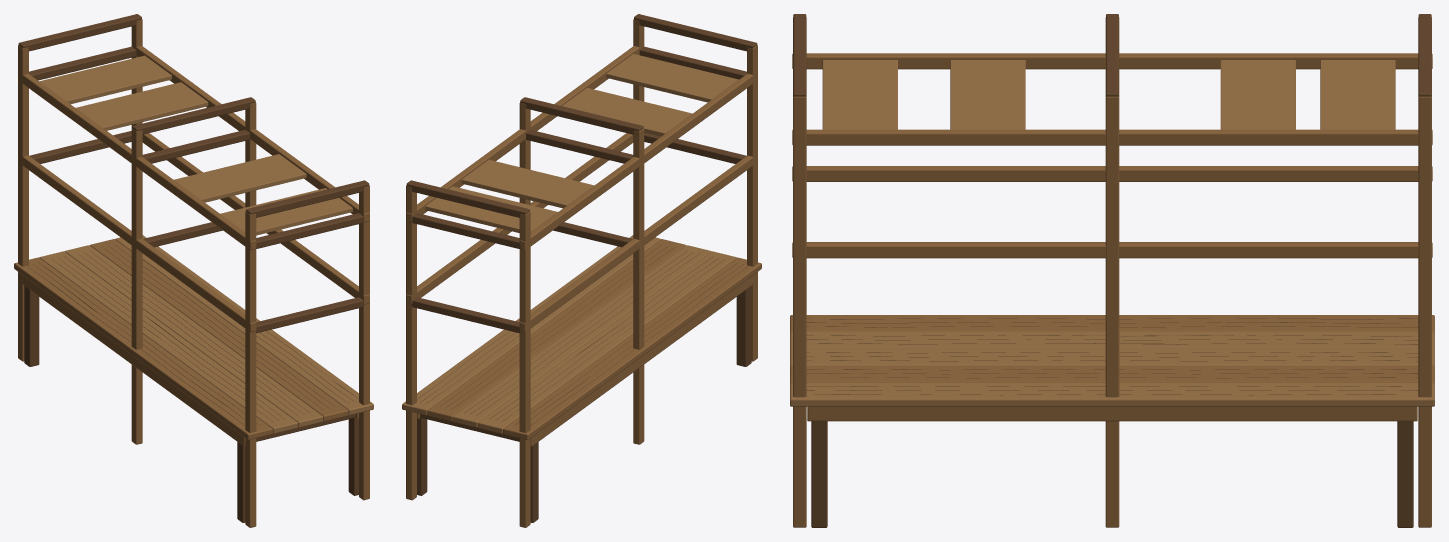
Rendered from communal.glb.
3 renders of one model, left to right at view 1: azimuth 30°, elevation 25°; view 2: azimuth 150°, elevation 25°; view 3: azimuth 270°, elevation 25°, orthographic. The views are drawn at different scales.
Visible parts, largest first — view 1: 실내 조명 베이크용 communal; view 2: 실내 조명 베이크용 communal; view 3: 실내 조명 베이크용 communal.
Boxes of the visible parts, x1=… form: 실내 조명 베이크용 communal: x1=14, y1=14, x2=373, y2=527; 실내 조명 베이크용 communal: x1=402, y1=14, x2=761, y2=527; 실내 조명 베이크용 communal: x1=790, y1=14, x2=1434, y2=527.
Bounding box in the file's own units: 1.22 × 2.93 × 3.94.
